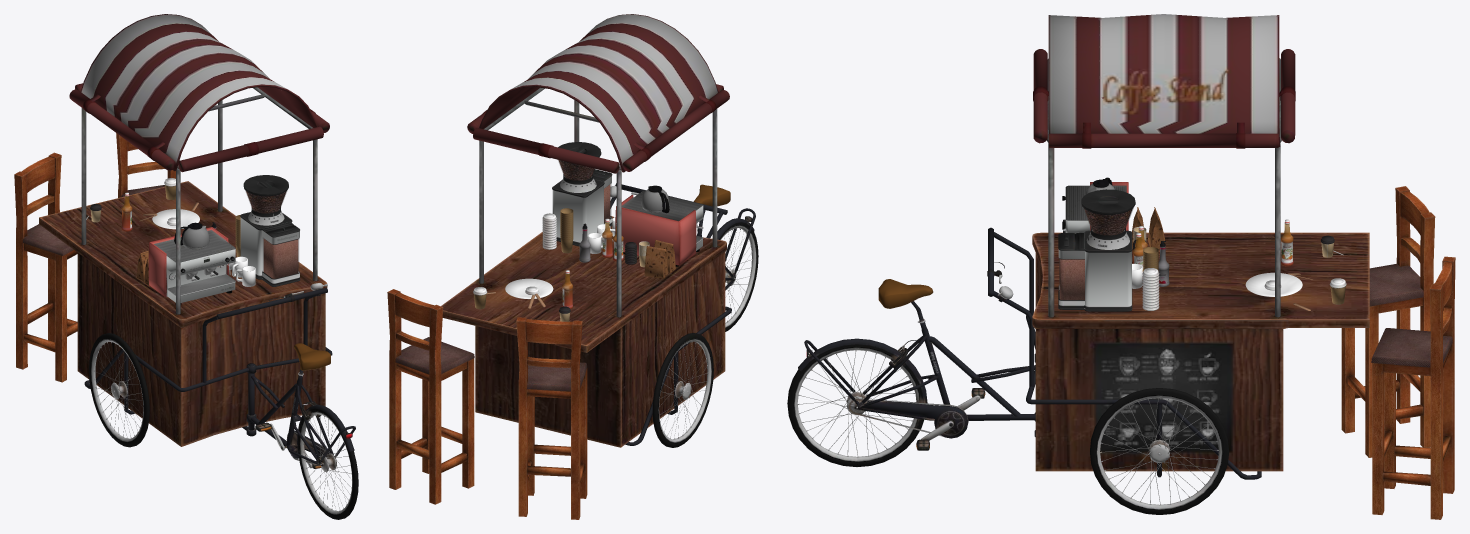
Rendered from coffee_cart.glb.
3 views of the same model, side by side, from view 1: azimuth 30°, elevation 25°; view 2: azimuth 150°, elevation 25°; view 3: azimuth 270°, elevation 25° (orthographic). The views are drawn at different scales.
Visible parts, largest first — view 1: table_low, ceiling_low, chair_low.001, cloth-3_low, body-machine_low, tire.003_low, tire.001_low, coffee_low, grain_low, cylinder-2_low, cylinder-1_low, body_low.001 (+13 smaller); view 2: table_low, ceiling_low, chair_low, chair_low.001, cloth-3_low, body-machine_low, tire.003_low, body_low.001, cylinder-1_low, grain_low, tire.001_low, cylinder-2_low (+8 smaller); view 3: table_low, ceiling_low, chair_low, chair_low.001, cloth-3_low, tire.002_low, tire.001_low, body_low.001, grain_low, coffee_low, cover_low, frame.010_low (+10 smaller).
Part boxes in pixels (x1,y1,x2,y2): table_low: (39,181,327,446); ceiling_low: (80,14,317,171); chair_low.001: (14,152,77,382); cloth-3_low: (69,83,329,172); body-machine_low: (148,227,235,296); tire.003_low: (89,333,149,447); tire.001_low: (297,408,358,519); coffee_low: (262,222,300,286); grain_low: (243,175,288,225); cylinder-2_low: (176,139,317,314); cylinder-1_low: (81,100,222,244); body_low.001: (240,212,292,279); table_low: (441,216,726,447); ceiling_low: (479,14,718,172); chair_low: (387,289,474,504); chair_low.001: (516,317,587,519); cloth-3_low: (467,84,729,173); body-machine_low: (615,190,703,265); tire.003_low: (652,333,713,447); body_low.001: (552,179,604,246); cylinder-1_low: (479,140,621,317); grain_low: (558,142,601,192); tire.001_low: (719,222,758,331); cylinder-2_low: (574,100,717,247); table_low: (1032,232,1369,471); ceiling_low: (1048,14,1280,146); chair_low: (1371,256,1455,519); chair_low.001: (1341,186,1435,457); cloth-3_low: (1033,49,1295,148); tire.002_low: (1090,388,1229,514); tire.001_low: (787,344,923,466); body_low.001: (1084,230,1132,311); grain_low: (1081,189,1135,249); coffee_low: (1058,232,1084,309); cover_low: (860,400,968,438); frame.010_low: (1026,315,1261,479).
Size of the model in its own units: 2.07 by 4.05 by 5.53.
6 materials, 6 textured.
